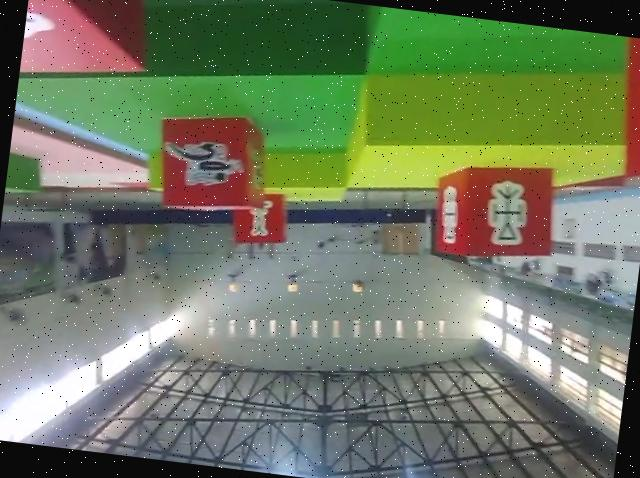R1: (143, 102, 273, 224)
R2 Real: (421, 149, 559, 270), (228, 182, 292, 251)
